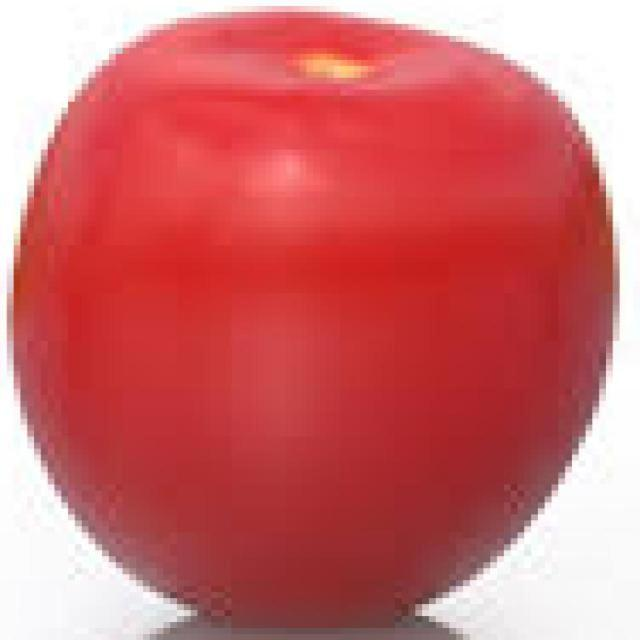Healthy Fruit: (10, 0, 412, 427)
